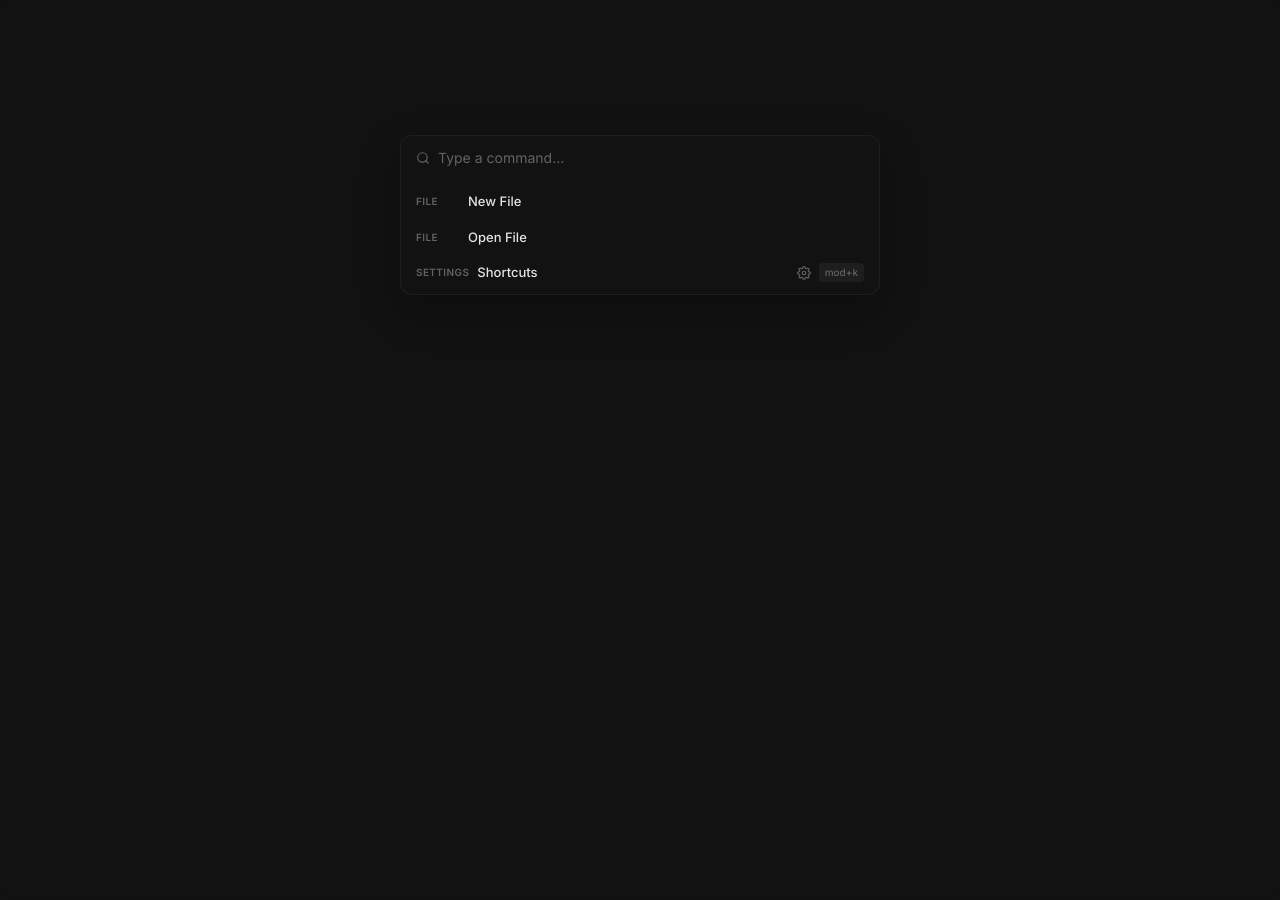
Test case: CommandPalette › shows empty state when no commands match
The image size is (1280, 900).
Type "XYZ" into the field with placeholder "Type a command…" at (651, 158), box x1=438 y1=147 x2=864 y2=168
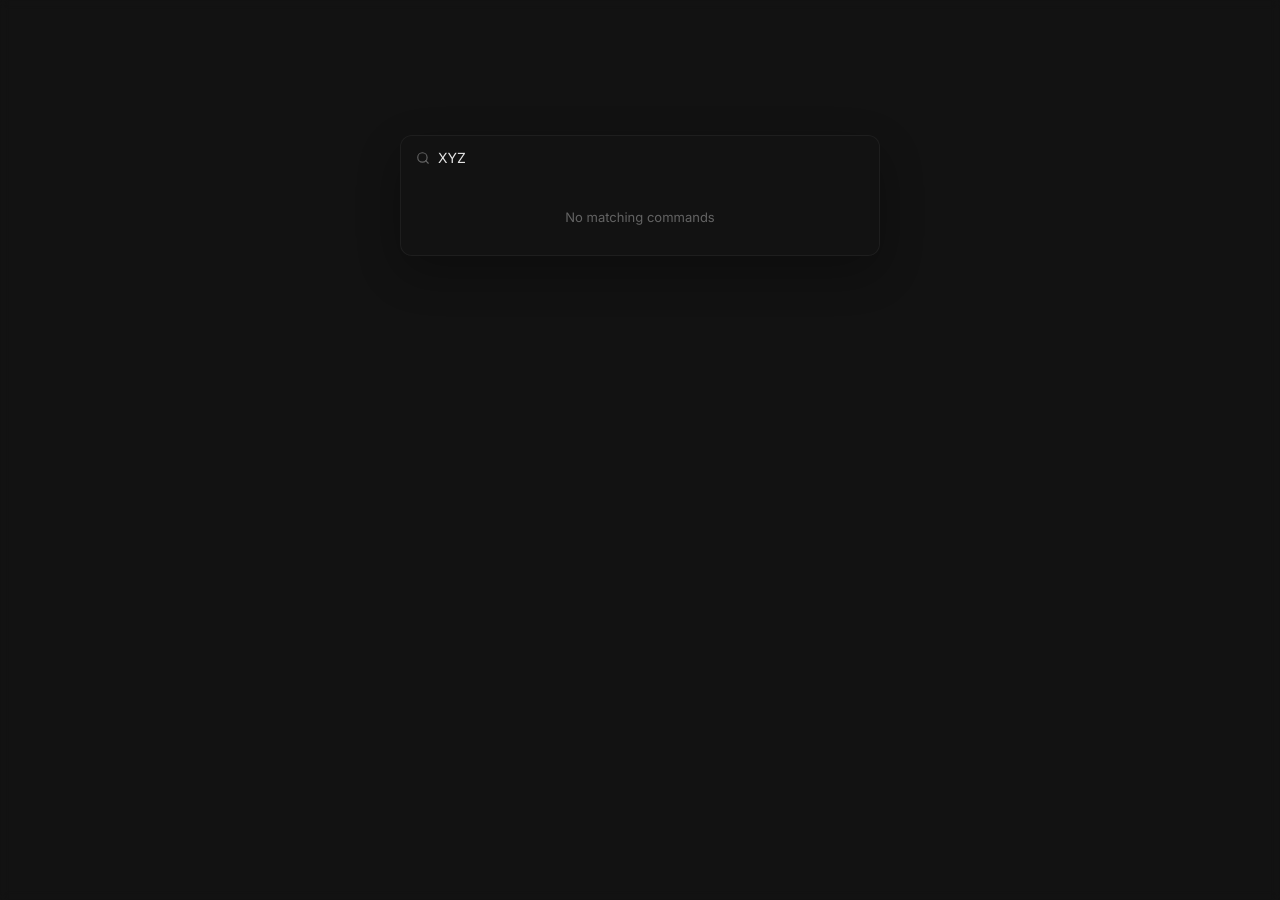
Check: the text "No matching commands" is shown, box x1=565 y1=209 x2=715 y2=225
